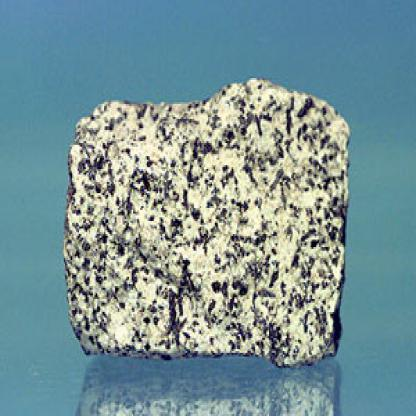Igneous_Diorite: (62, 76, 344, 370)
